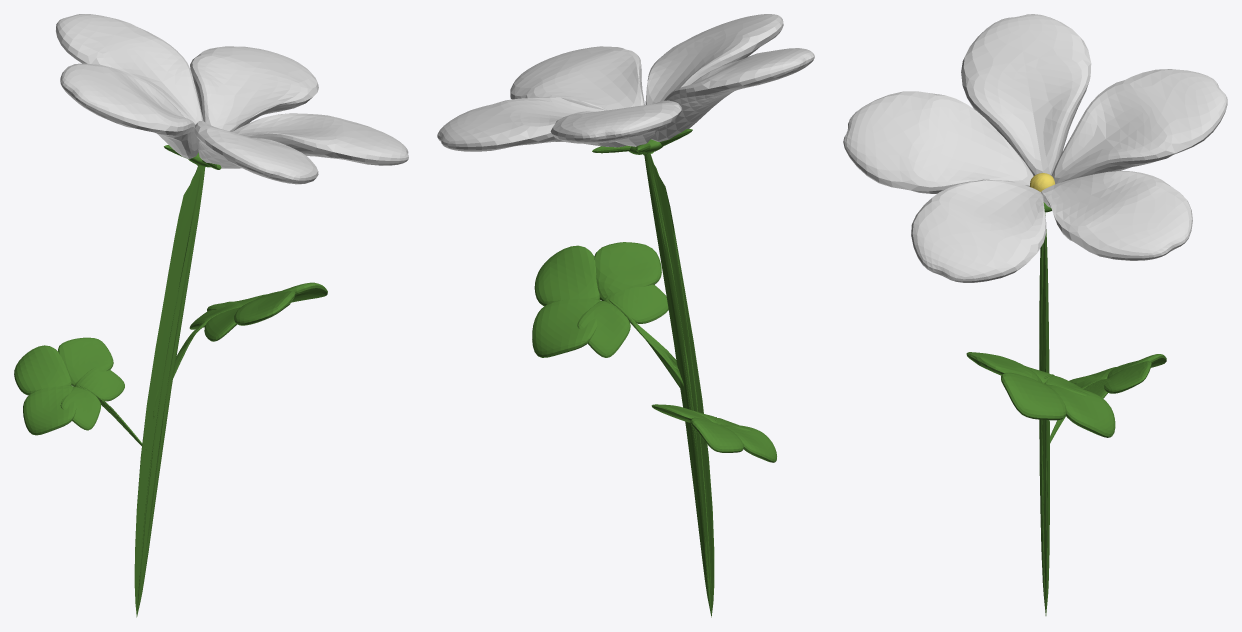
Rendered from Anxiety_Geranium.glb.
3 renders of one model, left to right at view 1: azimuth 30°, elevation 25°; view 2: azimuth 150°, elevation 25°; view 3: azimuth 270°, elevation 25°, orthographic. The views are drawn at different scales.
Visible parts, largest first — view 1: Cube.002; view 2: Cube.002; view 3: Cube.002.
Boxes of the visible parts, x1,y1,x2,y2 form: Cube.002: (14,14,408,617); Cube.002: (437,14,814,617); Cube.002: (843,14,1227,615).
Size of the model in its own units: 6.09 by 10.46 by 6.43.
